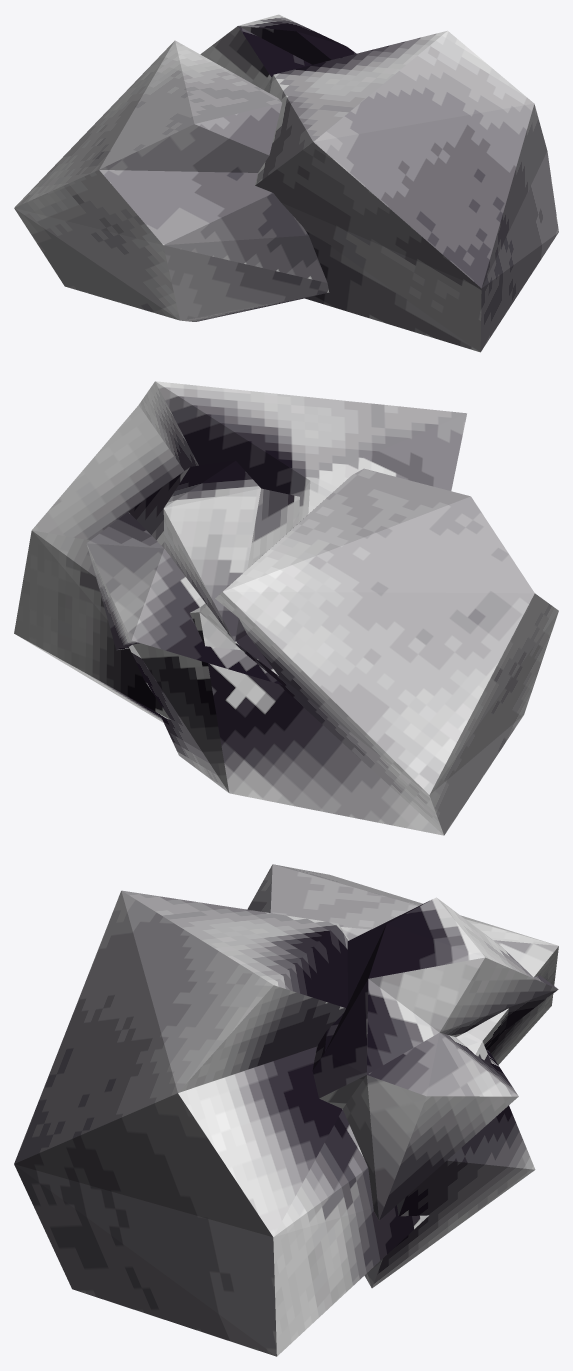
Rendered from Imbottitura.fbx.
3 views of the same model, one above another, from view 1: azimuth 30°, elevation 25°; view 2: azimuth 150°, elevation 25°; view 3: azimuth 270°, elevation 25° (orthographic). The views are drawn at different scales.
Visible parts, largest first — view 1: Icosphere.004; view 2: Icosphere.004; view 3: Icosphere.004.
Boxes of the visible parts, left/top/right/bottom form: Icosphere.004: left=14, top=14, right=558, bottom=352; Icosphere.004: left=14, top=381, right=558, bottom=835; Icosphere.004: left=14, top=864, right=558, bottom=1356.
Bounding box in the file's own units: 0.0302 × 0.0181 × 0.0248.
Materials: 1 (1 with a texture image).
